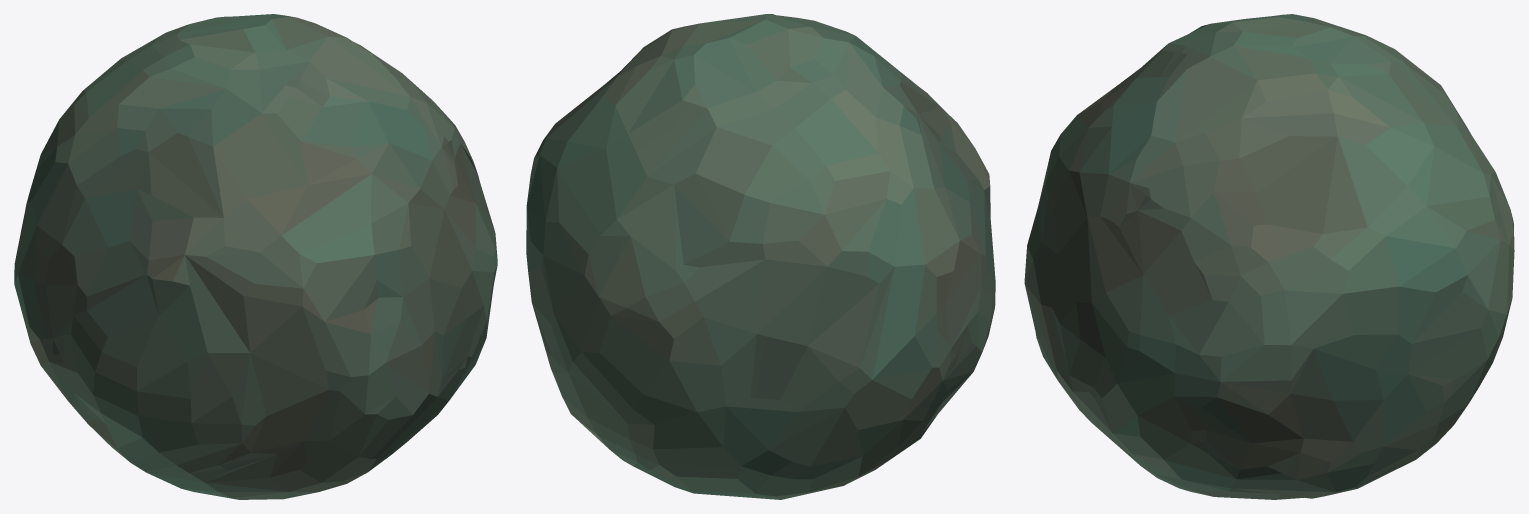
3 renders of one model, left to right at view 1: azimuth 30°, elevation 25°; view 2: azimuth 150°, elevation 25°; view 3: azimuth 270°, elevation 25°, orthographic.
Parts seen in each view (by area): view 1: anim_20_11_21; view 2: anim_20_11_21; view 3: anim_20_11_21.
Part boxes in pixels (bbox=[...]): anim_20_11_21: bbox=[14, 14, 497, 499]; anim_20_11_21: bbox=[526, 14, 995, 499]; anim_20_11_21: bbox=[1024, 14, 1514, 499].
Bounding box in the file's own units: 0.4917 × 0.4995 × 0.5.
